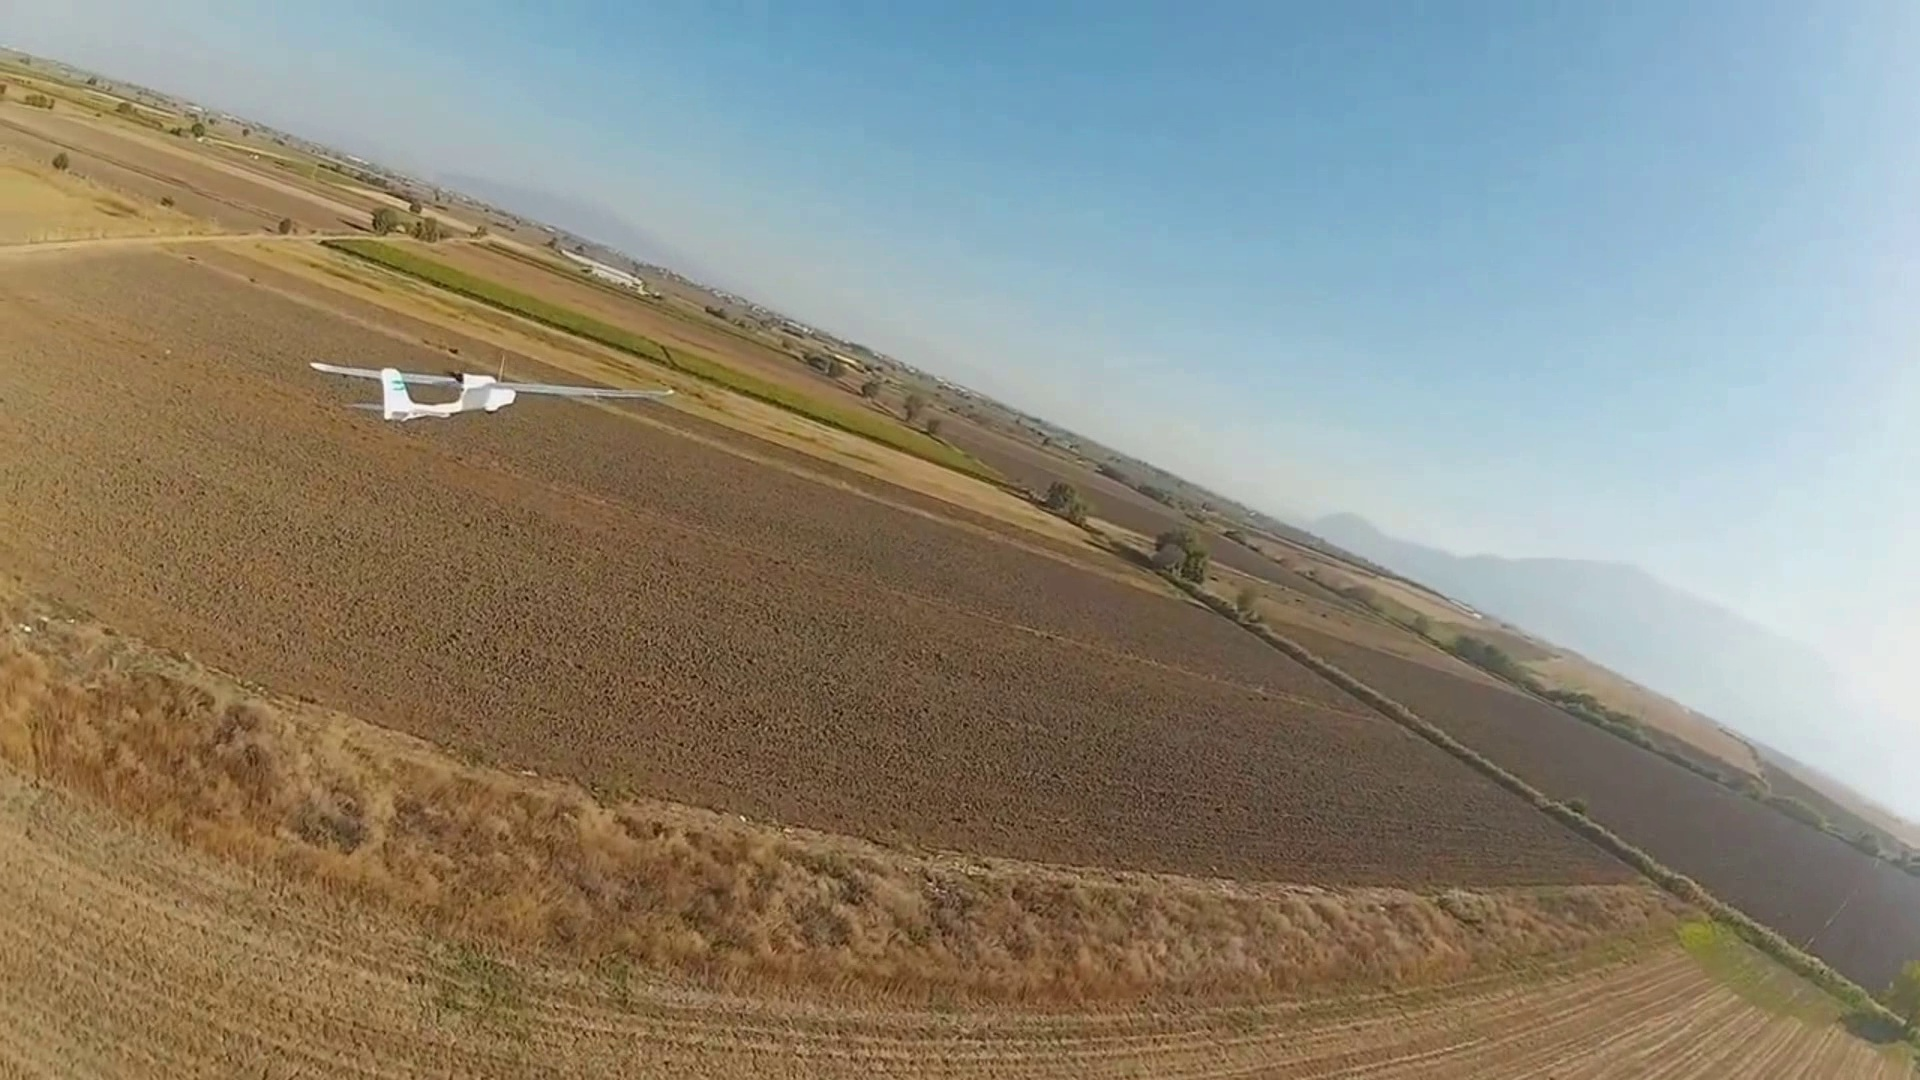airplane: (307, 363, 520, 421)
